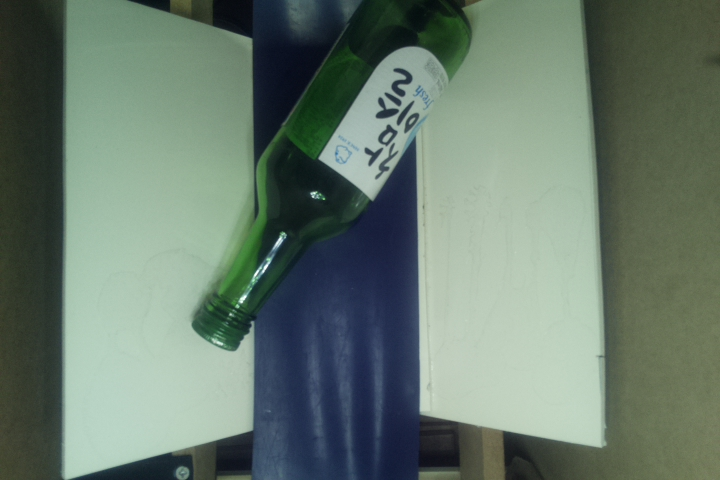soju: (194, 1, 475, 352)
